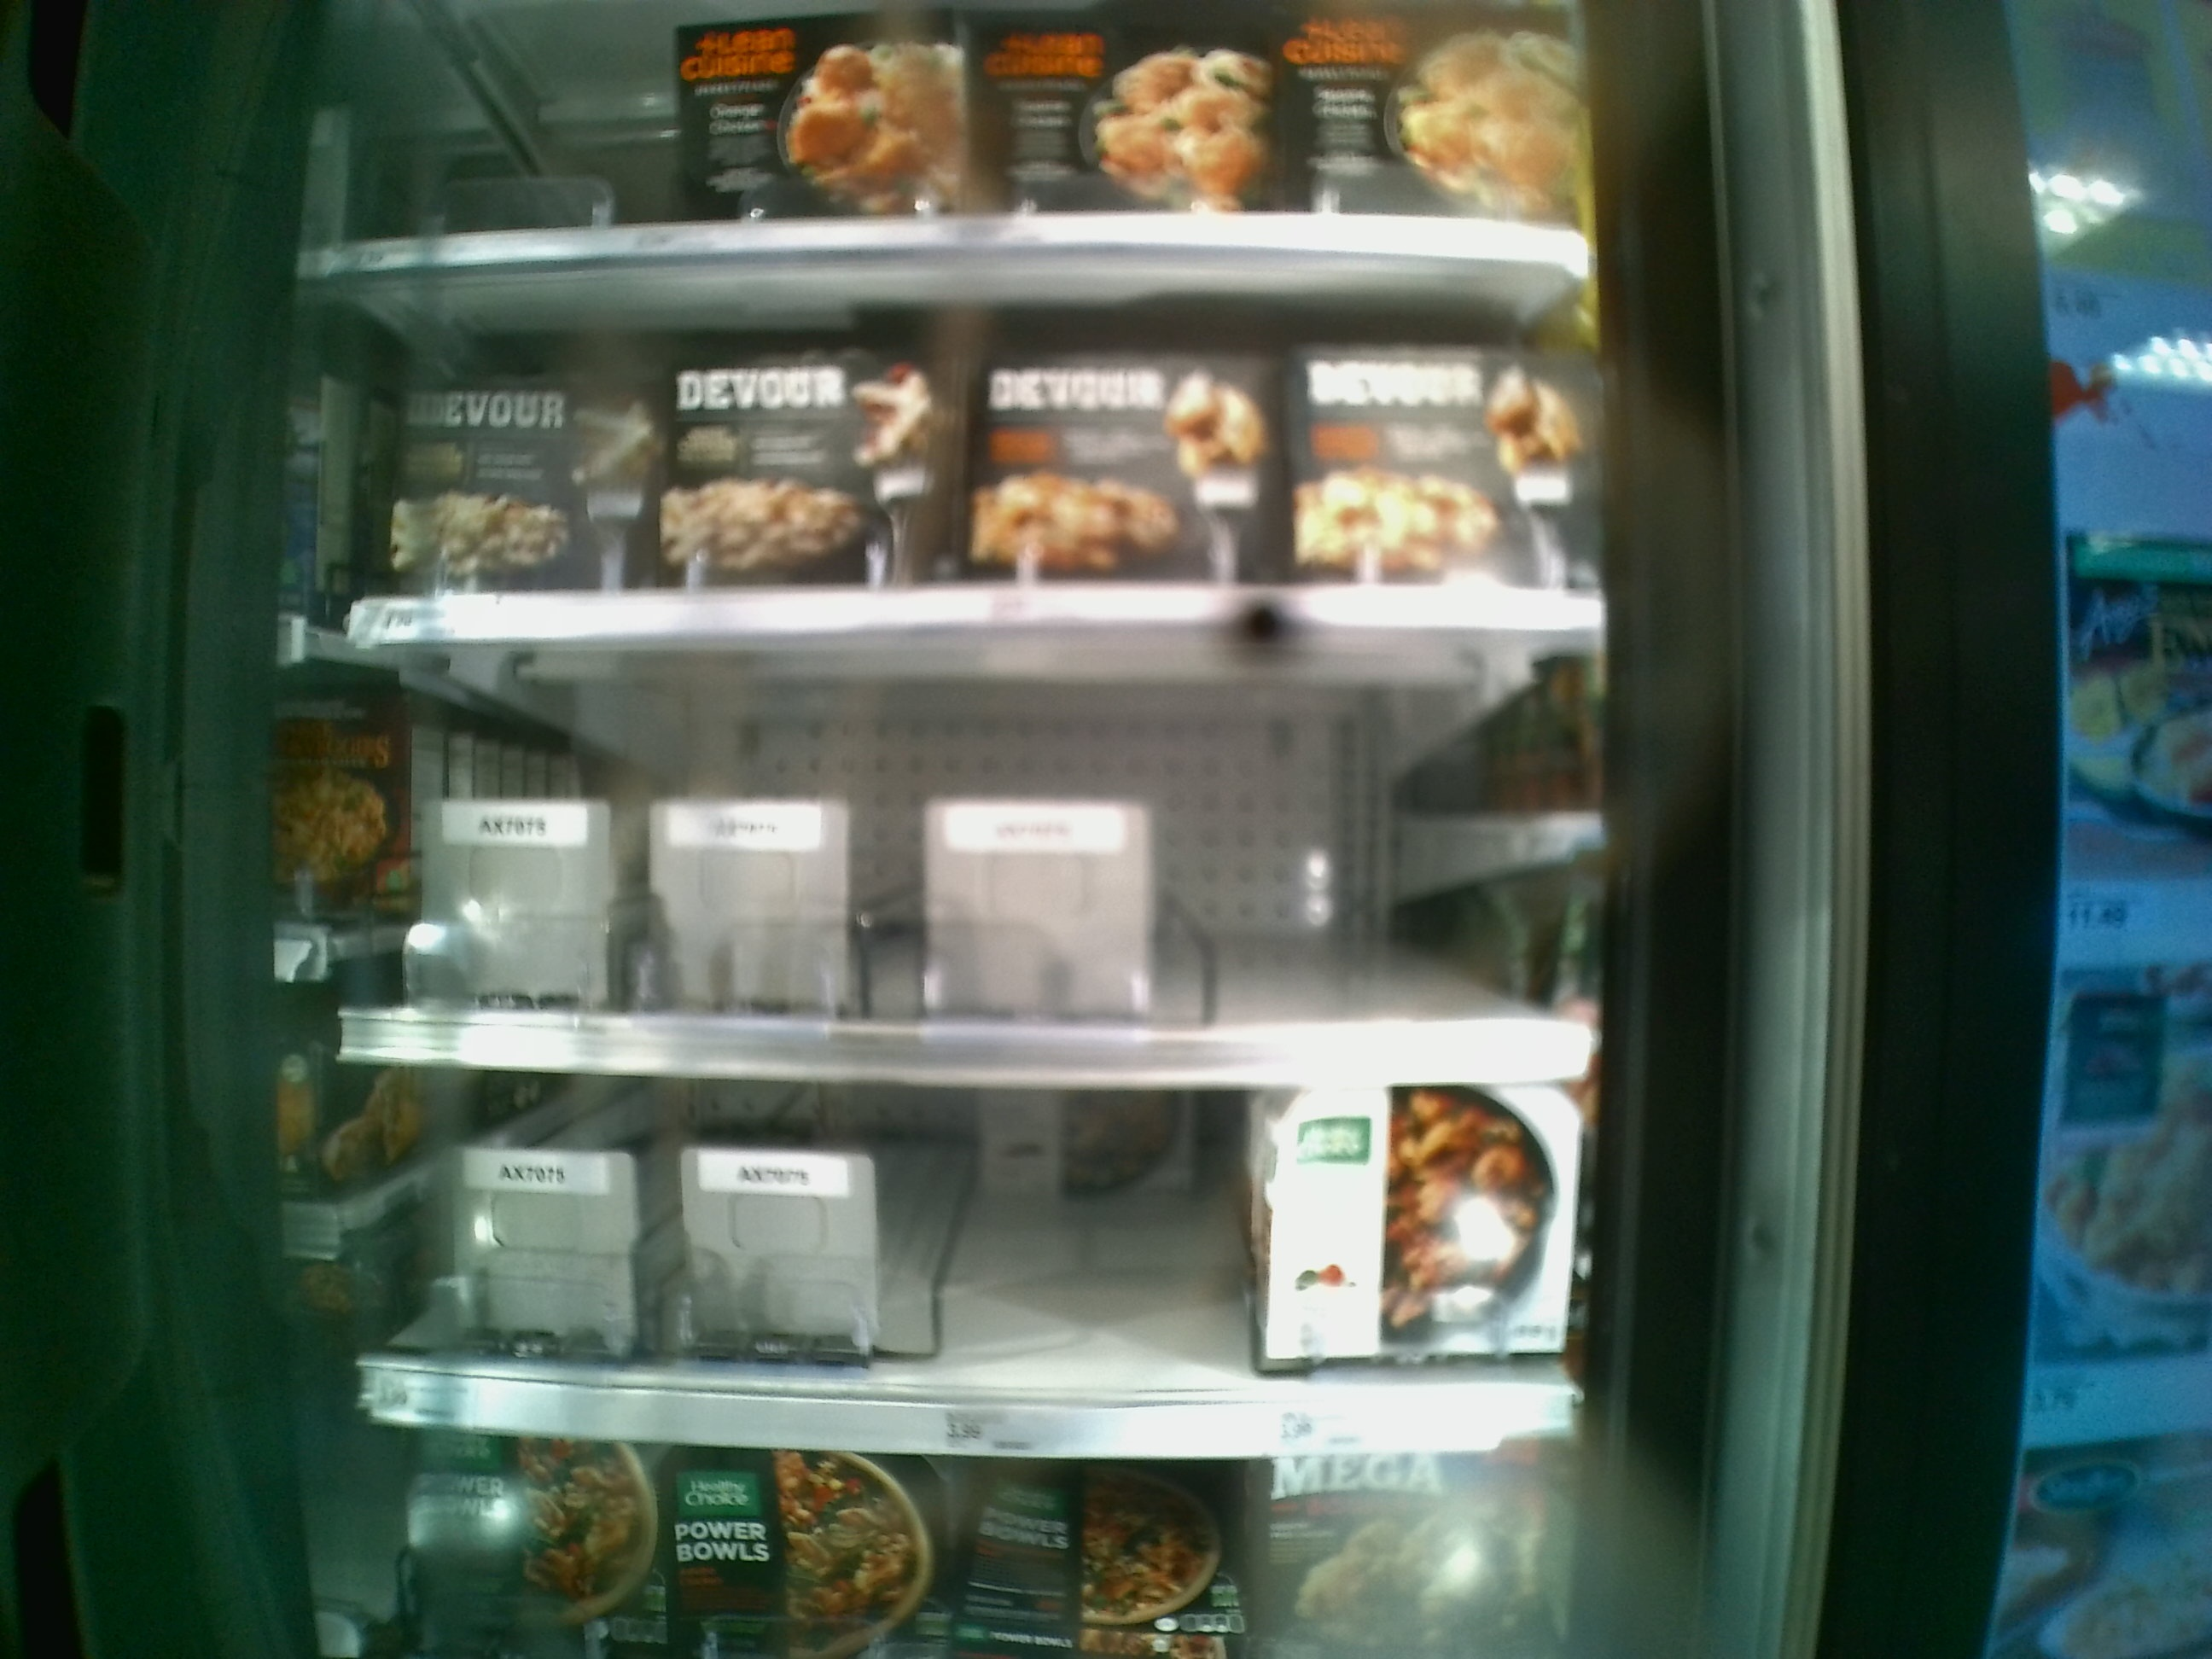shelf: (348, 631, 1601, 1086), (310, 244, 1599, 647), (336, 1060, 1581, 1459)
